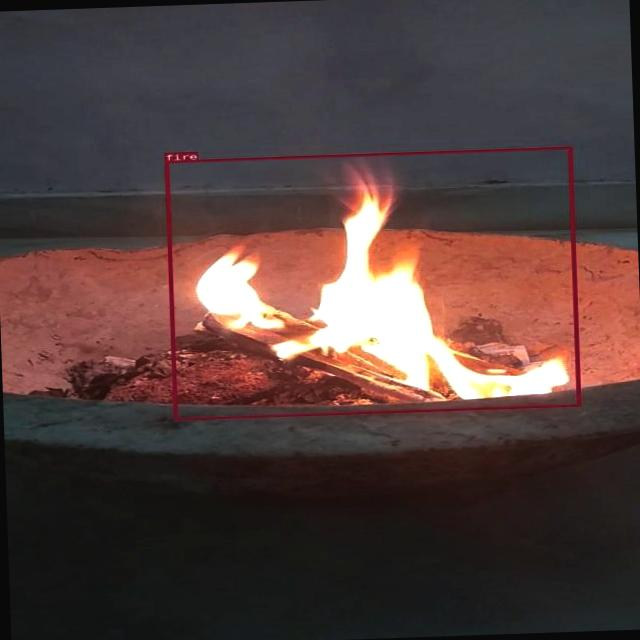fire: (163, 146, 580, 420)
